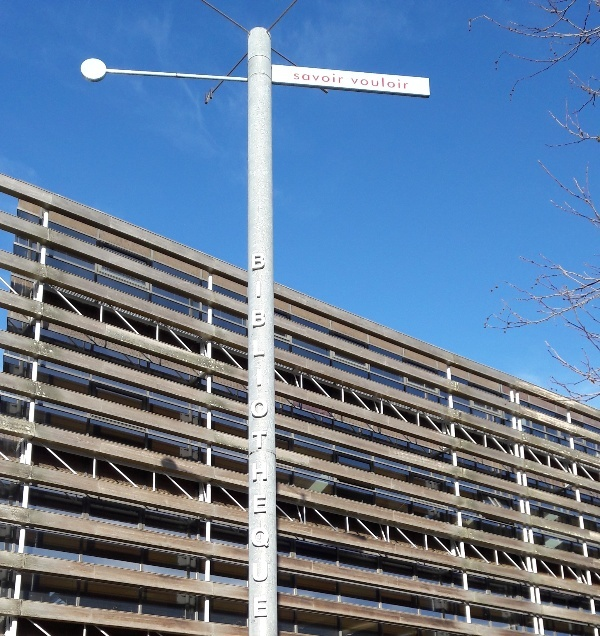text: (257, 252, 271, 619), (248, 252, 256, 619), (305, 73, 320, 84), (321, 73, 336, 84), (353, 78, 368, 89), (369, 78, 384, 89), (385, 78, 400, 89), (294, 73, 304, 84), (401, 78, 409, 89), (337, 73, 344, 84)
